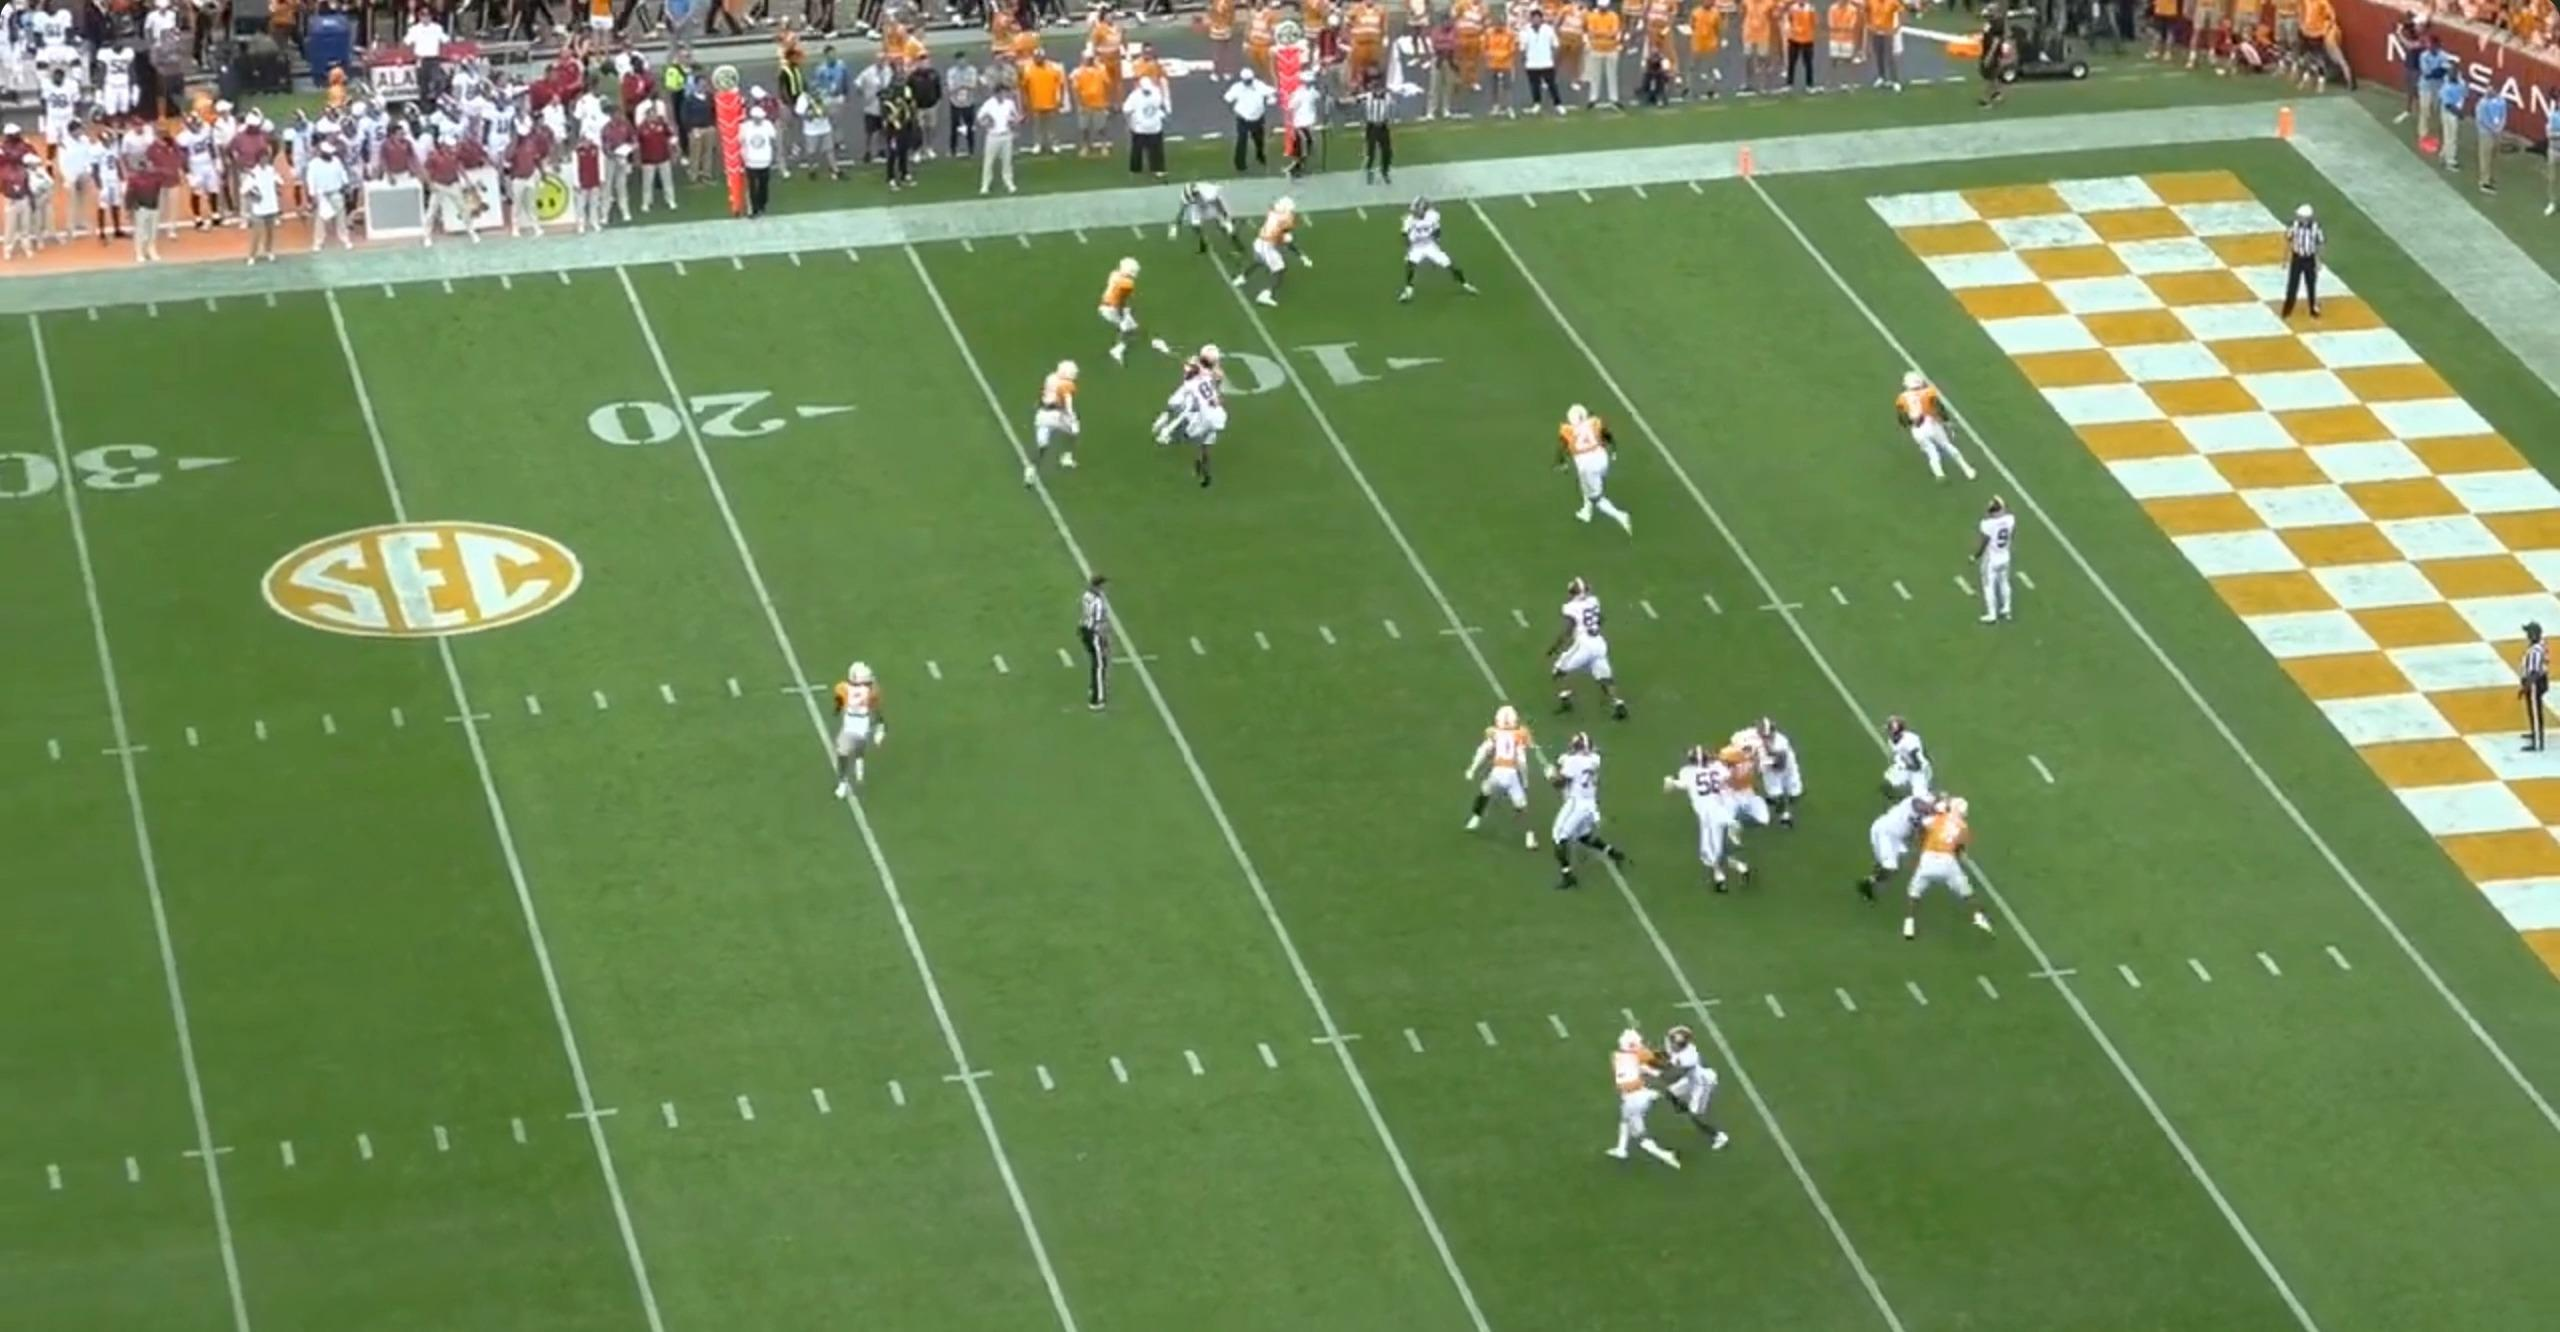defense: (1891, 790, 1994, 941), (1448, 702, 1541, 843), (1605, 1021, 1681, 1178), (1548, 401, 1632, 540), (1893, 366, 1981, 486), (818, 653, 886, 801), (1226, 200, 1310, 315), (1021, 350, 1090, 489), (1143, 345, 1226, 455), (1094, 252, 1161, 364), (1717, 724, 1776, 829)
oline: (1532, 726, 1627, 892), (1671, 745, 1761, 895), (1554, 575, 1642, 723), (1862, 787, 1947, 909), (1749, 716, 1808, 831)
qb: (1954, 498, 2023, 635)
ref: (1080, 575, 1133, 728), (2281, 200, 2335, 322), (1354, 76, 1405, 186), (2521, 618, 2560, 757)
skill: (1652, 1022, 1735, 1163), (1399, 201, 1492, 311), (1177, 364, 1229, 496), (1873, 706, 1939, 809), (1161, 178, 1233, 257)
